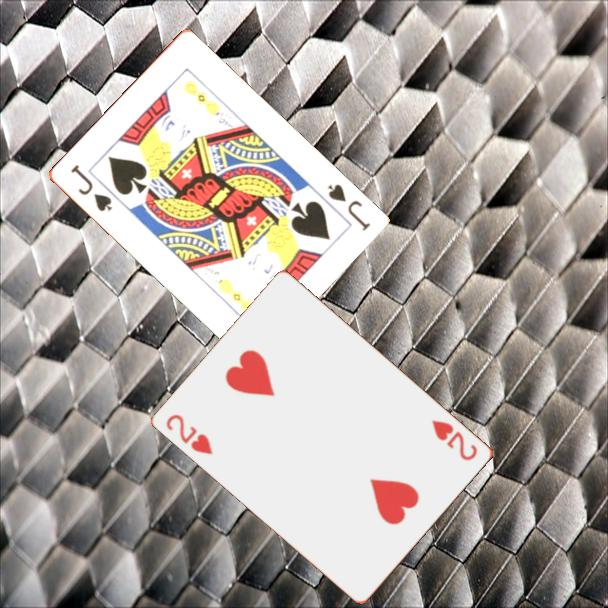h02: (163, 410, 216, 458), (428, 416, 481, 463)
s11: (323, 180, 373, 234), (67, 161, 115, 214)
